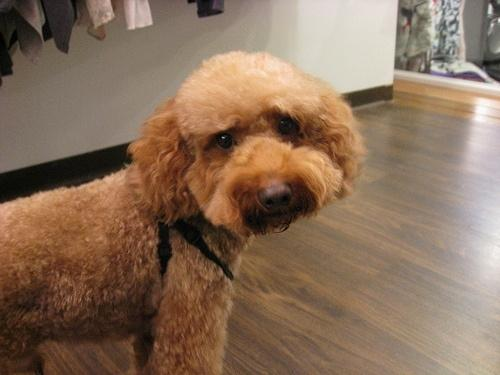dog: (0, 52, 361, 374)
